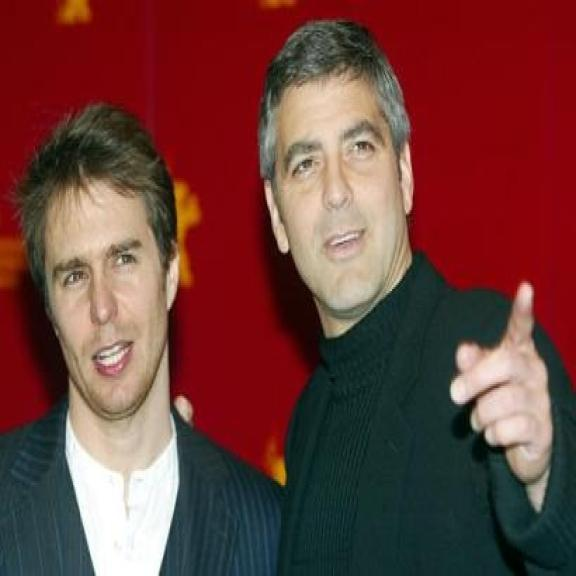face: (267, 75, 418, 315), (34, 173, 181, 417)
